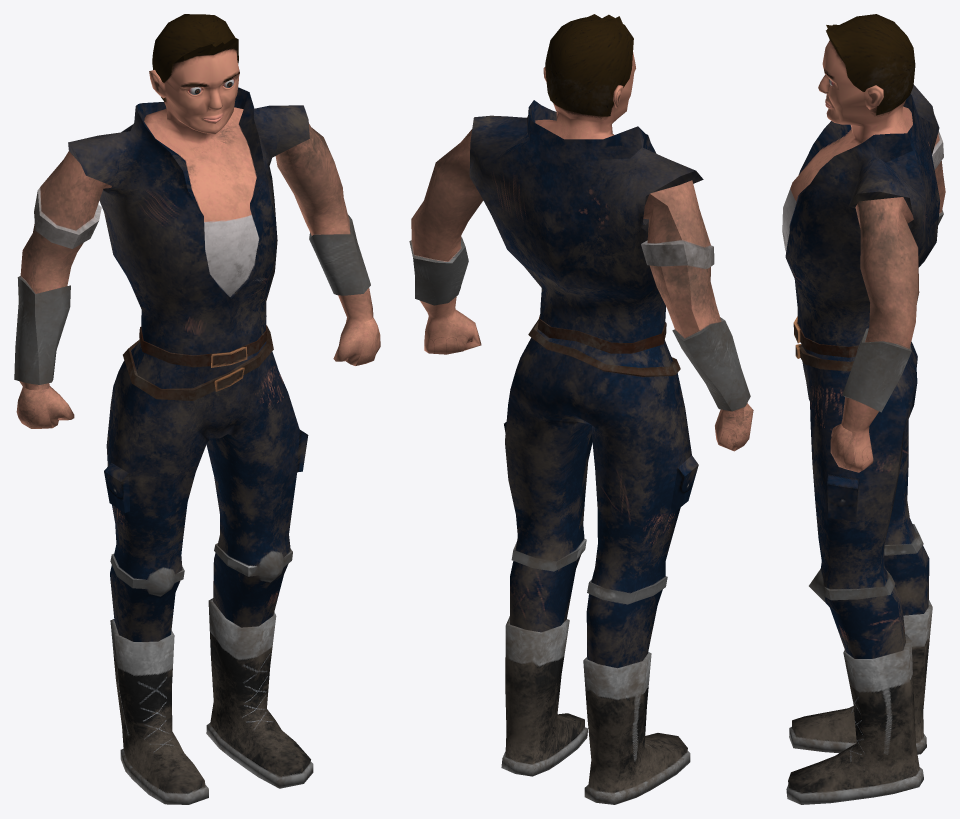
File: Anim_puerta_mal_jugador.0016.obj
3 views of the same model, side by side, from view 1: azimuth 30°, elevation 25°; view 2: azimuth 150°, elevation 25°; view 3: azimuth 270°, elevation 25° (orthographic).
Parts seen in each view (by area): view 1: polySurface1; view 2: polySurface1; view 3: polySurface1.
Part boxes in pixels (x1,y1,x2,y2): polySurface1: [14, 14, 380, 804]; polySurface1: [409, 14, 753, 804]; polySurface1: [782, 14, 945, 804].
Size of the model in its own units: 4.58 by 9.69 by 1.92.
